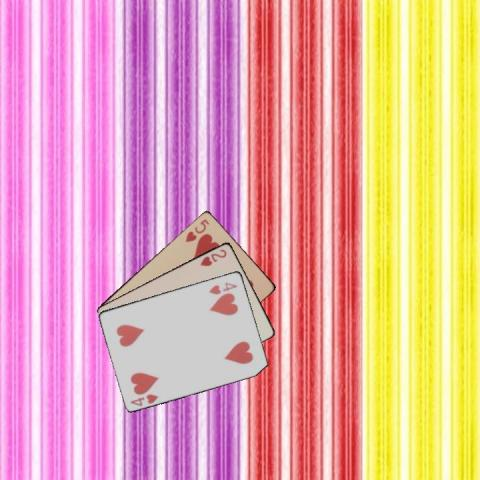2h: (197, 246, 228, 267)
4h: (206, 280, 239, 296), (128, 391, 160, 407)
5h: (182, 216, 211, 243)
